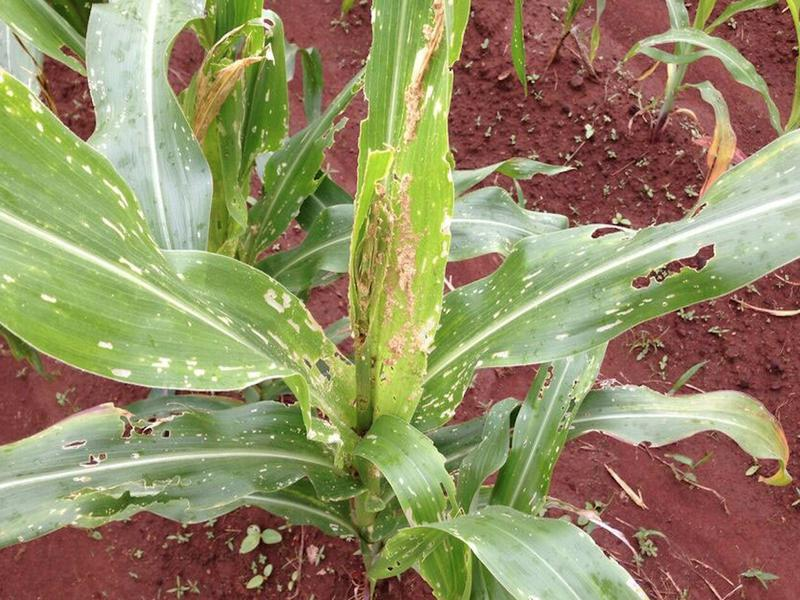Armyworms: (327, 180, 460, 400)
